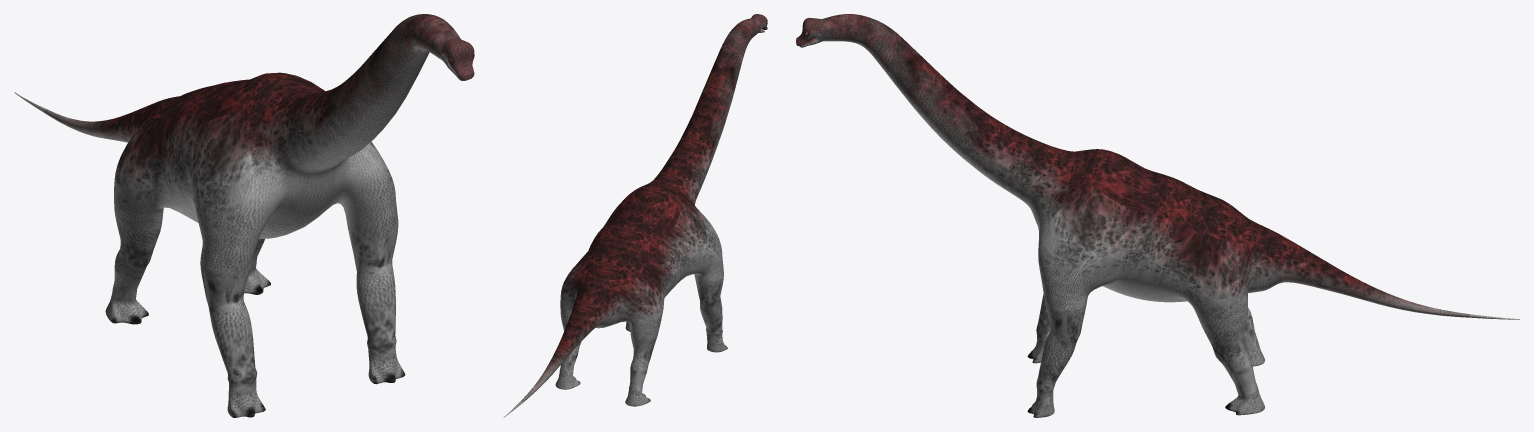
The model's file is titan.glb.
The picture shows the model from 3 angles, left to right: view 1: azimuth 30°, elevation 25°; view 2: azimuth 150°, elevation 25°; view 3: azimuth 270°, elevation 25°; orthographic projection. The views are drawn at different scales.
Size of the model in its own units: 2.62 by 6.1 by 10.8.
1 material, 1 textured.
